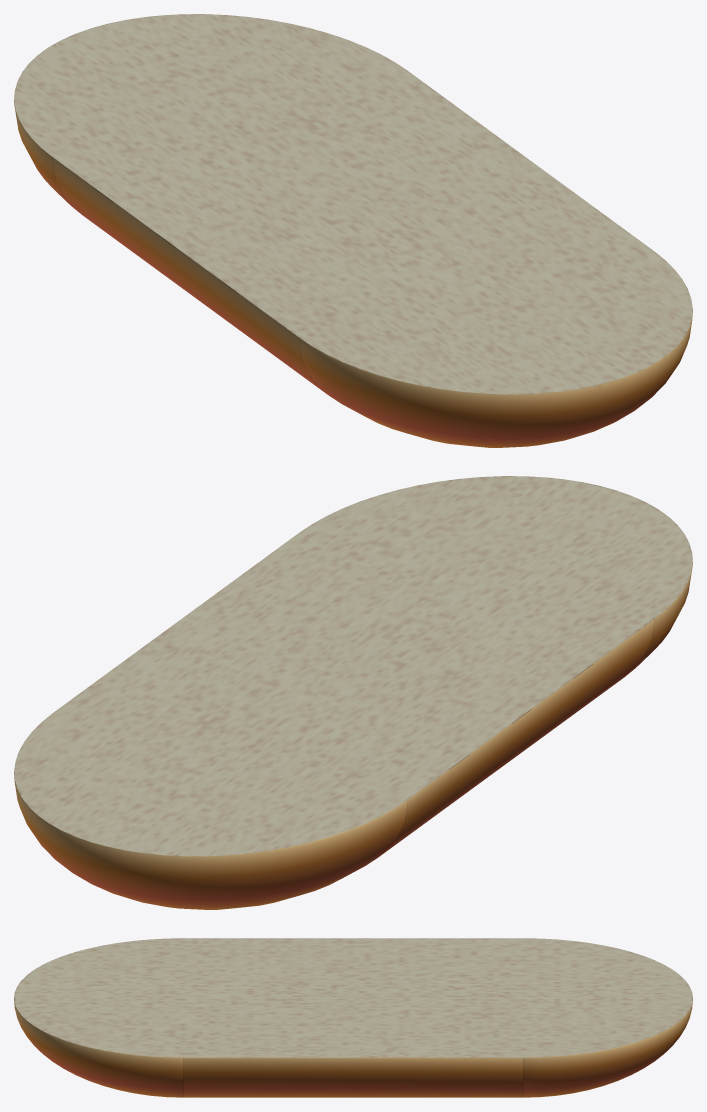
The model's file is bottom.obj.
3 views of the same model, one above another, from view 1: azimuth 30°, elevation 25°; view 2: azimuth 150°, elevation 25°; view 3: azimuth 270°, elevation 25° (orthographic). The views are drawn at different scales.
Parts seen in each view (by area): view 1: Mesh_5, Mesh_7, Mesh_6, Mesh_8; view 2: Mesh_5, Mesh_8, Mesh_6, Mesh_7; view 3: Mesh_5, Mesh_6, Mesh_7, Mesh_8.
Part boxes in pixels (x1,y1,x2,y2): Mesh_5: [14, 14, 692, 394]; Mesh_7: [299, 309, 692, 447]; Mesh_6: [52, 157, 327, 394]; Mesh_8: [14, 91, 81, 214]; Mesh_5: [14, 476, 692, 856]; Mesh_8: [14, 771, 407, 909]; Mesh_6: [379, 619, 654, 856]; Mesh_7: [625, 553, 692, 676]; Mesh_5: [14, 938, 692, 1057]; Mesh_6: [183, 1057, 523, 1097]; Mesh_7: [14, 999, 183, 1097]; Mesh_8: [523, 999, 692, 1097].
Size of the model in its own units: 2 by 0.6234 by 4.8.
4 materials, 4 textured.
